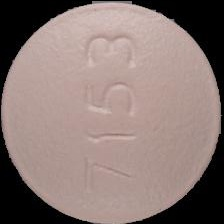51079-454: (0, 0, 224, 224)
